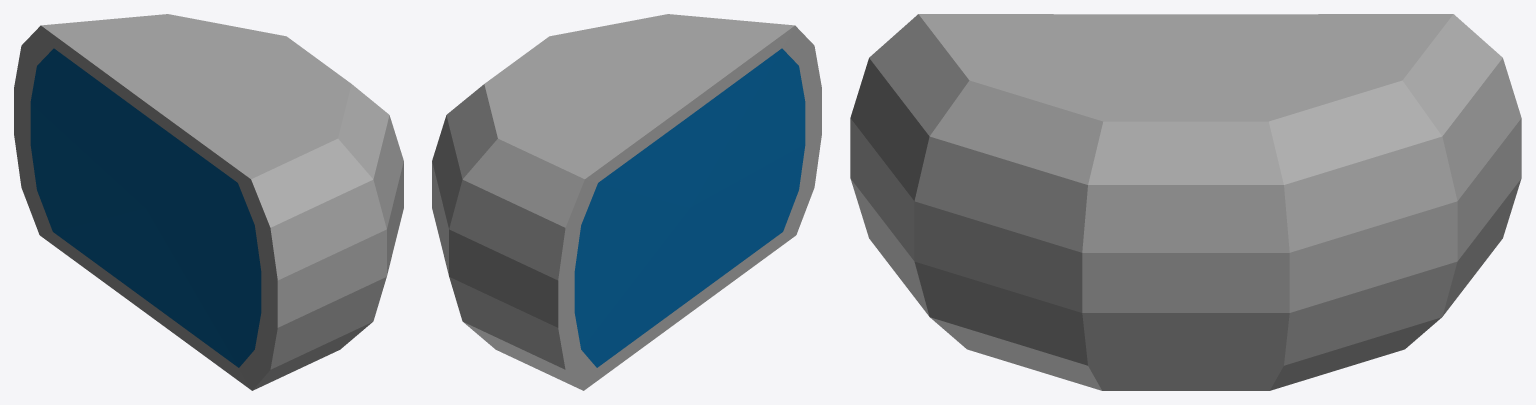
The model's file is pecorino_mezzo.fbx.
3 renders of one model, left to right at view 1: azimuth 30°, elevation 25°; view 2: azimuth 150°, elevation 25°; view 3: azimuth 270°, elevation 25°, orthographic. The views are drawn at different scales.
Visible parts, largest first — view 1: obj0; view 2: obj0; view 3: obj0.
Boxes of the visible parts, x1,y1,x2,y2 form: obj0: [14, 14, 403, 390]; obj0: [432, 14, 821, 390]; obj0: [850, 14, 1521, 390].
Size of the model in its own units: 0.0125 by 0.0116 by 0.0263.
